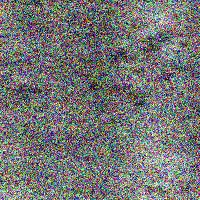rolled-in_scale: (90, 21, 190, 108), (141, 169, 191, 200), (1, 79, 47, 105)
